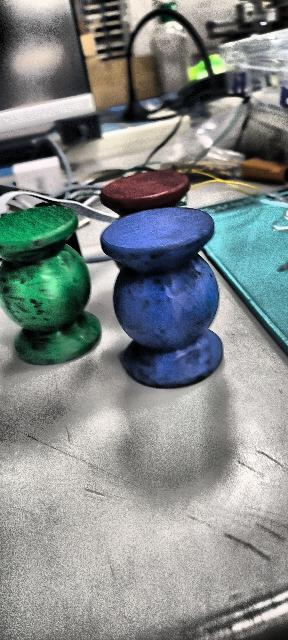blue: (101, 205, 224, 388)
green: (0, 206, 102, 369)
red: (100, 170, 186, 217)
